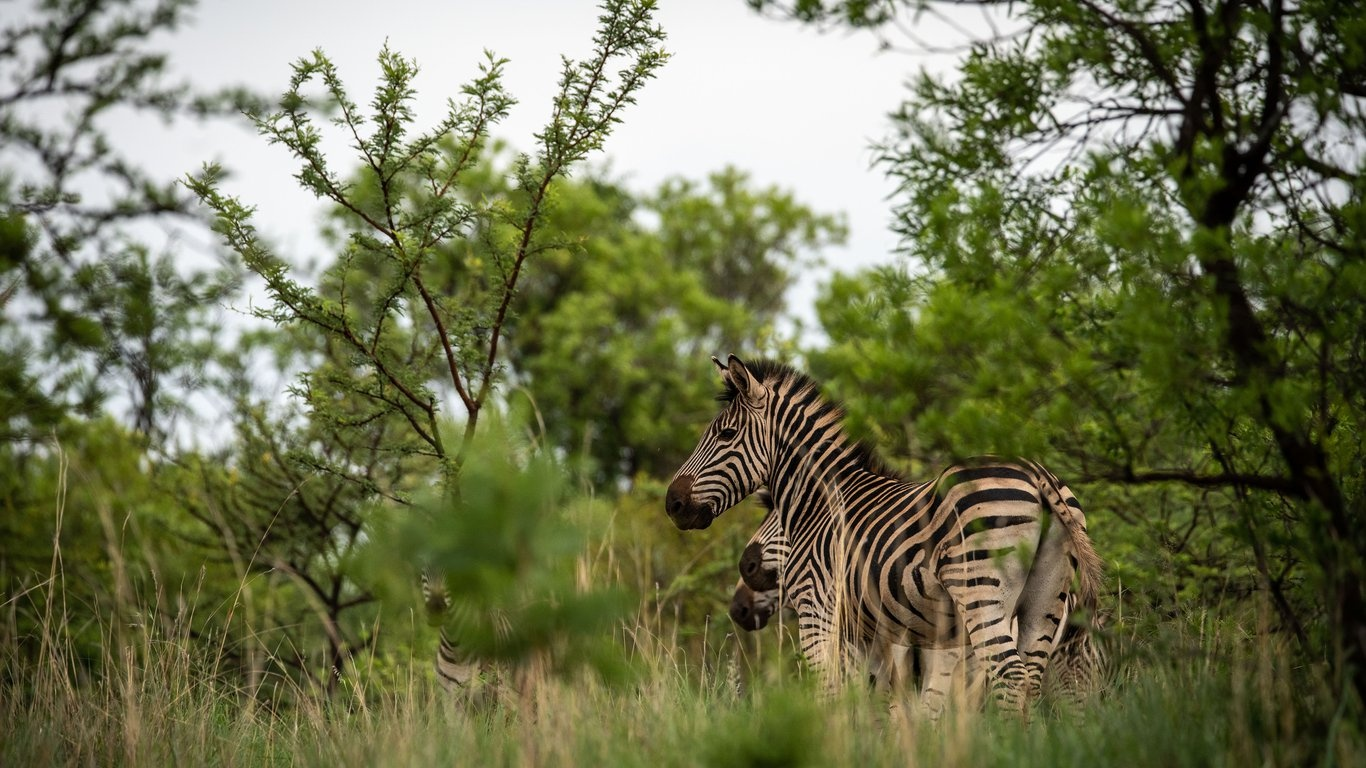zebra: (661, 350, 1098, 720)
